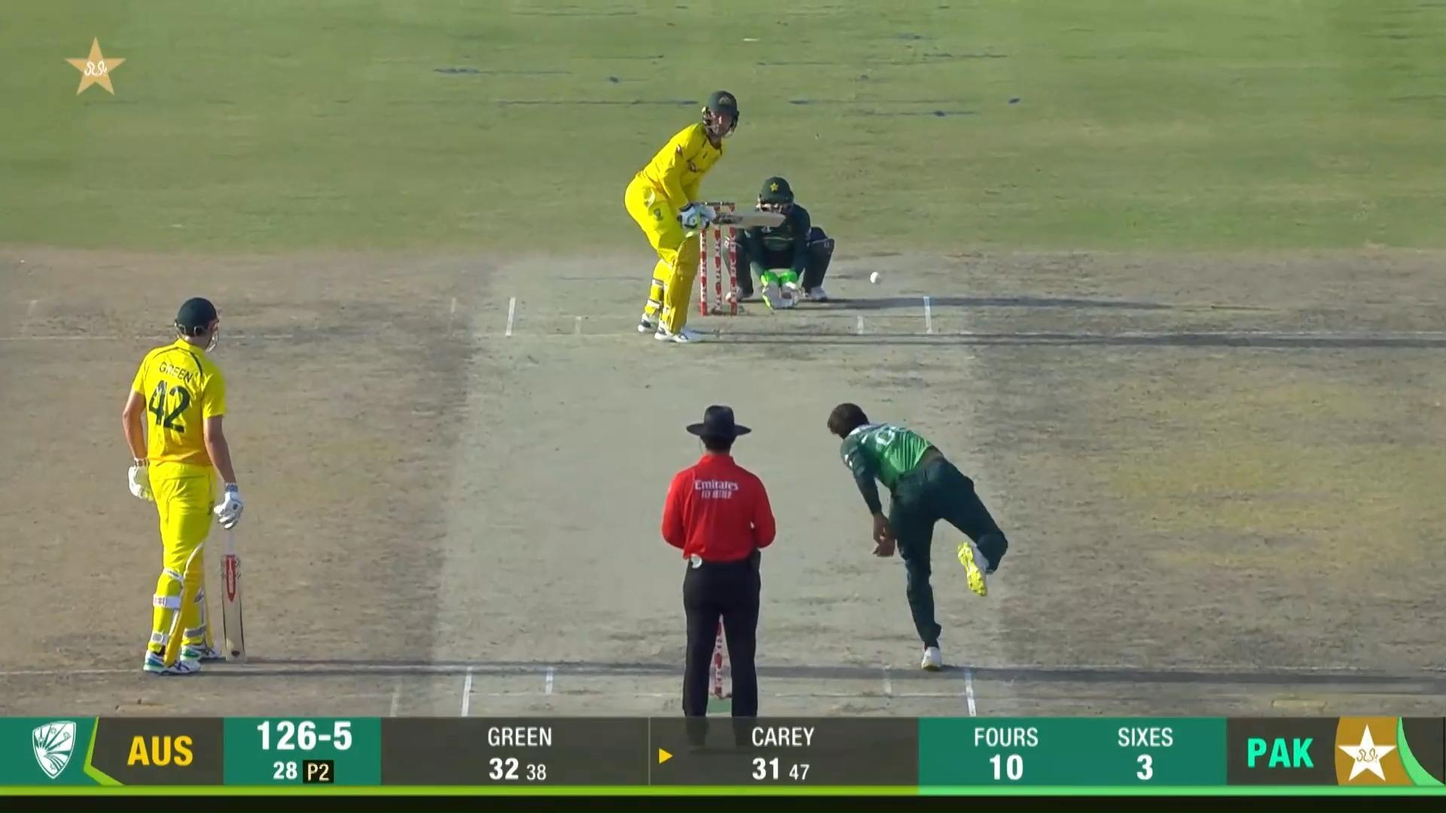BM 1: (625, 90, 787, 344)
BO: (825, 401, 1010, 673)
